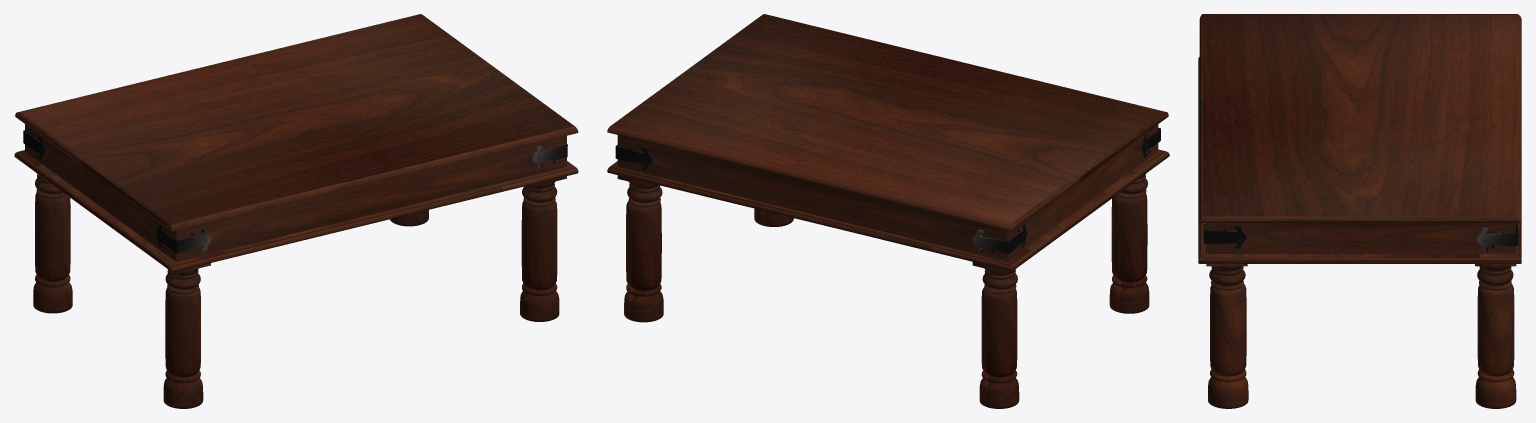
Rendered from alba_sheeshamcofee_table.obj.
3 views of the same model, side by side, from view 1: azimuth 30°, elevation 25°; view 2: azimuth 150°, elevation 25°; view 3: azimuth 270°, elevation 25° (orthographic). The views are drawn at different scales.
Visible parts, largest first — view 1: Cube_Cube.002, Cube.001_Cube.003, Cube.002_Cube.004, Sphere.000_Sphere.004, Sphere.004_Sphere.007, Sphere.001_Sphere.006, Plane_Plane.001; view 2: Cube_Cube.002, Cube.001_Cube.003, Cube.002_Cube.004, Sphere.001_Sphere.006, Sphere.002_Sphere.005, Sphere.004_Sphere.007, Plane.002_Plane.003, Plane.003_Plane.004, Sphere.000_Sphere.004; view 3: Cube_Cube.002, Cube.001_Cube.003, Sphere.002_Sphere.005, Sphere.000_Sphere.004, Cube.002_Cube.004, Plane.003_Plane.004, Plane.001_Plane.002.
Boxes of the visible parts, left/top/right/bottom form: Cube_Cube.002: left=15, top=14, right=578, bottom=231; Cube.001_Cube.003: left=25, top=124, right=566, bottom=261; Cube.002_Cube.004: left=14, top=150, right=578, bottom=271; Sphere.000_Sphere.004: left=520, top=181, right=559, bottom=321; Sphere.004_Sphere.007: left=163, top=268, right=203, bottom=408; Sphere.001_Sphere.006: left=33, top=173, right=72, bottom=313; Plane_Plane.001: left=156, top=224, right=211, bottom=253; Cube_Cube.002: left=607, top=14, right=1168, bottom=230; Cube.001_Cube.003: left=617, top=124, right=1158, bottom=261; Cube.002_Cube.004: left=607, top=149, right=1169, bottom=271; Sphere.001_Sphere.006: left=979, top=268, right=1019, bottom=408; Sphere.002_Sphere.005: left=624, top=181, right=663, bottom=322; Sphere.004_Sphere.007: left=1109, top=174, right=1149, bottom=313; Plane.002_Plane.003: left=972, top=224, right=1027, bottom=253; Plane.003_Plane.004: left=615, top=145, right=652, bottom=170; Sphere.000_Sphere.004: left=754, top=208, right=793, bottom=226; Cube_Cube.002: left=1199, top=14, right=1521, bottom=222; Cube.001_Cube.003: left=1205, top=222, right=1515, bottom=253; Sphere.002_Sphere.005: left=1475, top=266, right=1516, bottom=408; Sphere.000_Sphere.004: left=1208, top=266, right=1248, bottom=408; Cube.002_Cube.004: left=1198, top=57, right=1521, bottom=263; Plane.003_Plane.004: left=1476, top=222, right=1518, bottom=251; Plane.001_Plane.002: left=1203, top=222, right=1246, bottom=248.
Bounding box in the file's own units: 35.04 × 15.74 × 23.5.
Materials: 5 (5 with a texture image).
